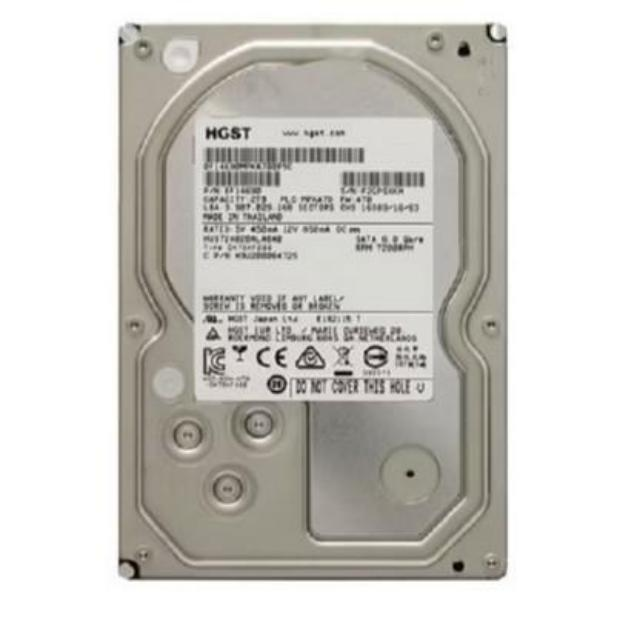DISK: (114, 19, 508, 590)
